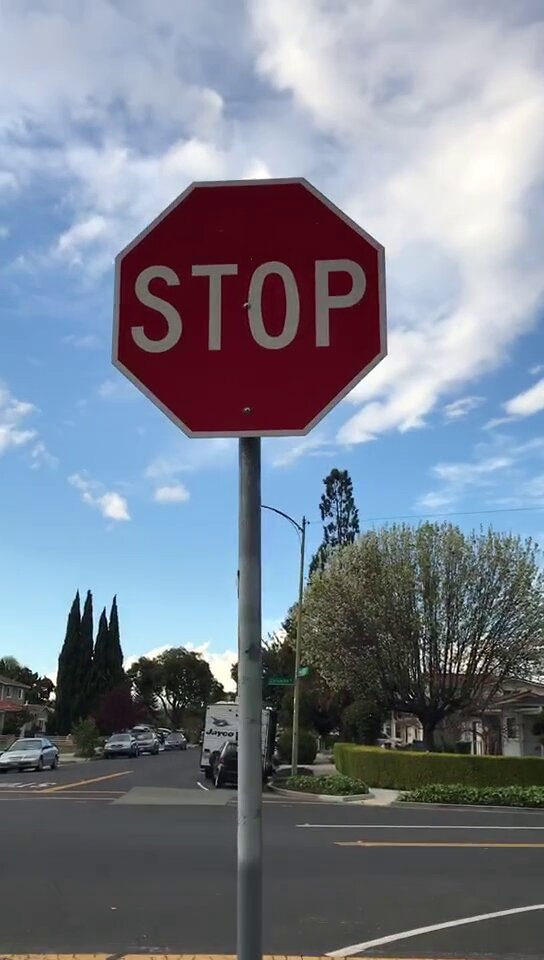stop_sign: (116, 180, 388, 437)
